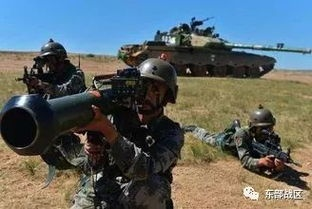falling: (182, 98, 301, 177)
